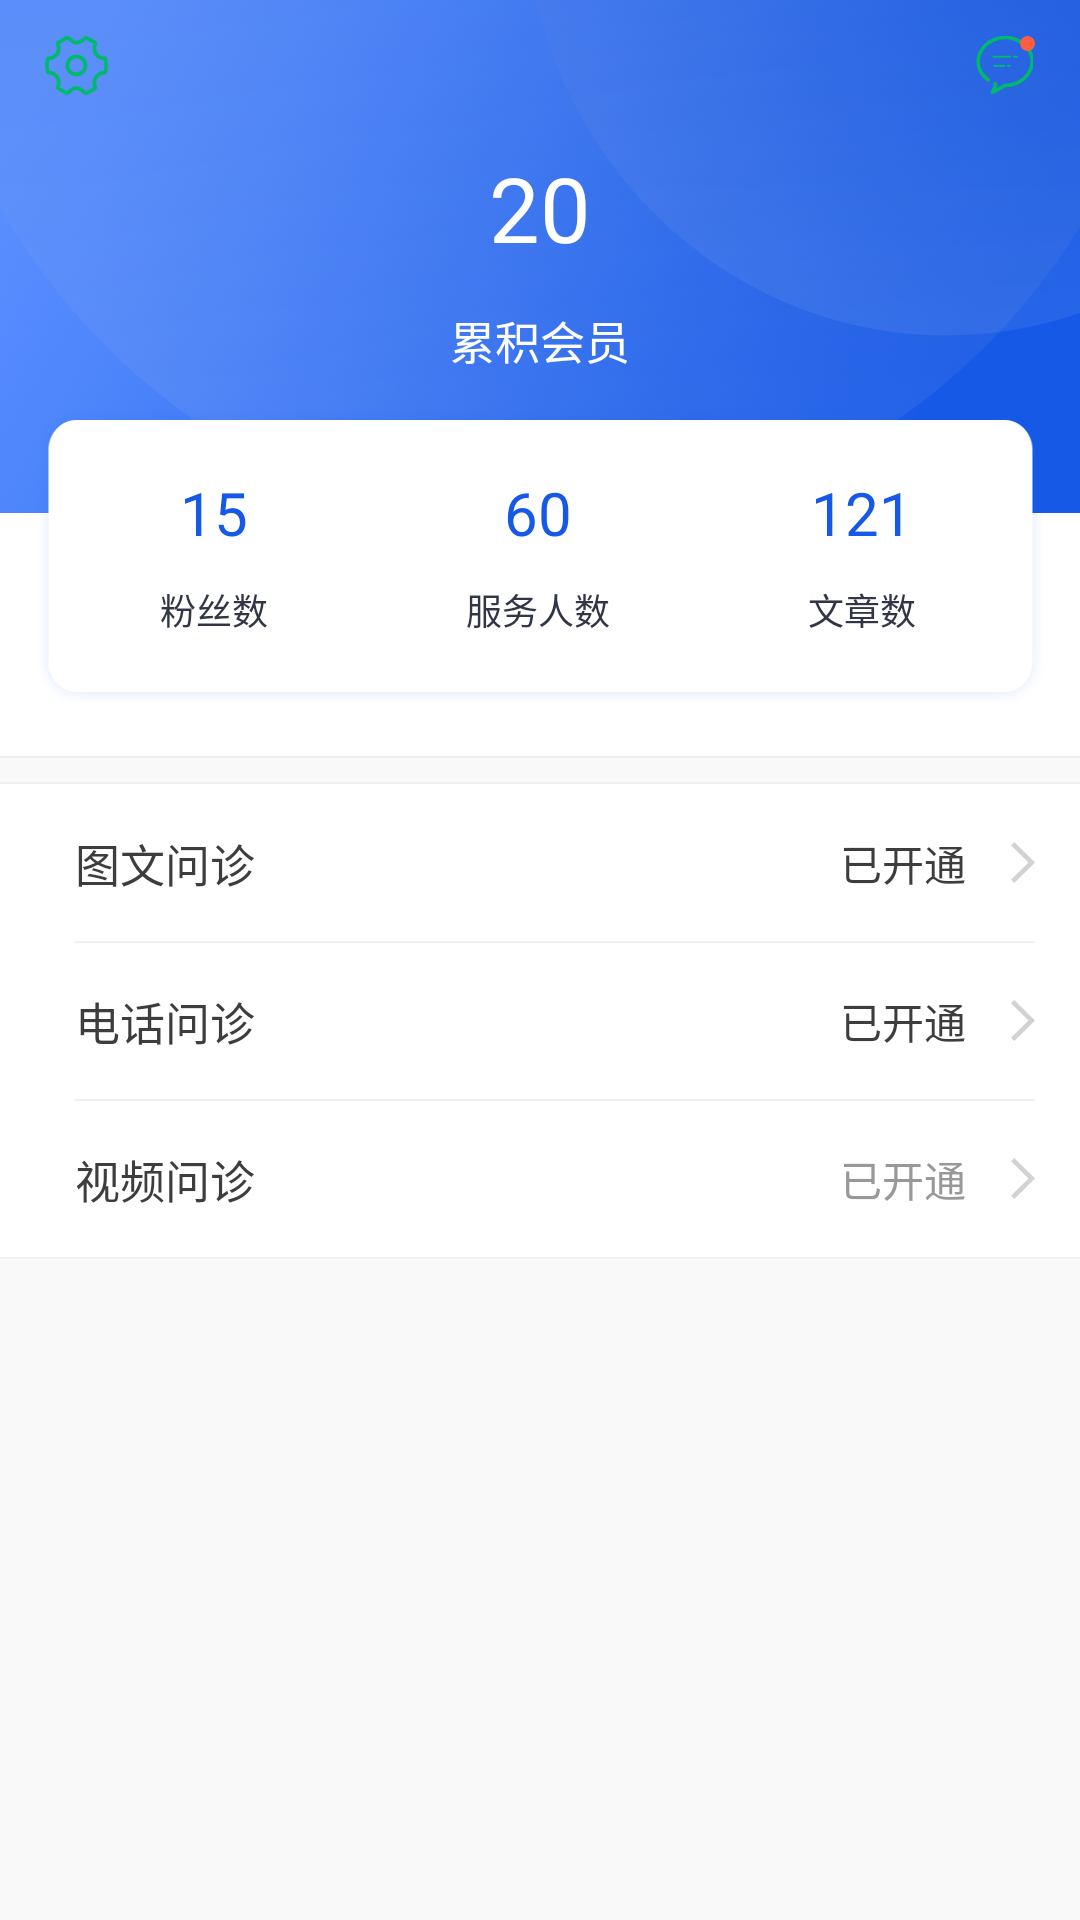

Where to tap for icons on this 1080×1920 app screen, as point (x, y):
message: point (1004, 65)
setting: point (76, 65)
